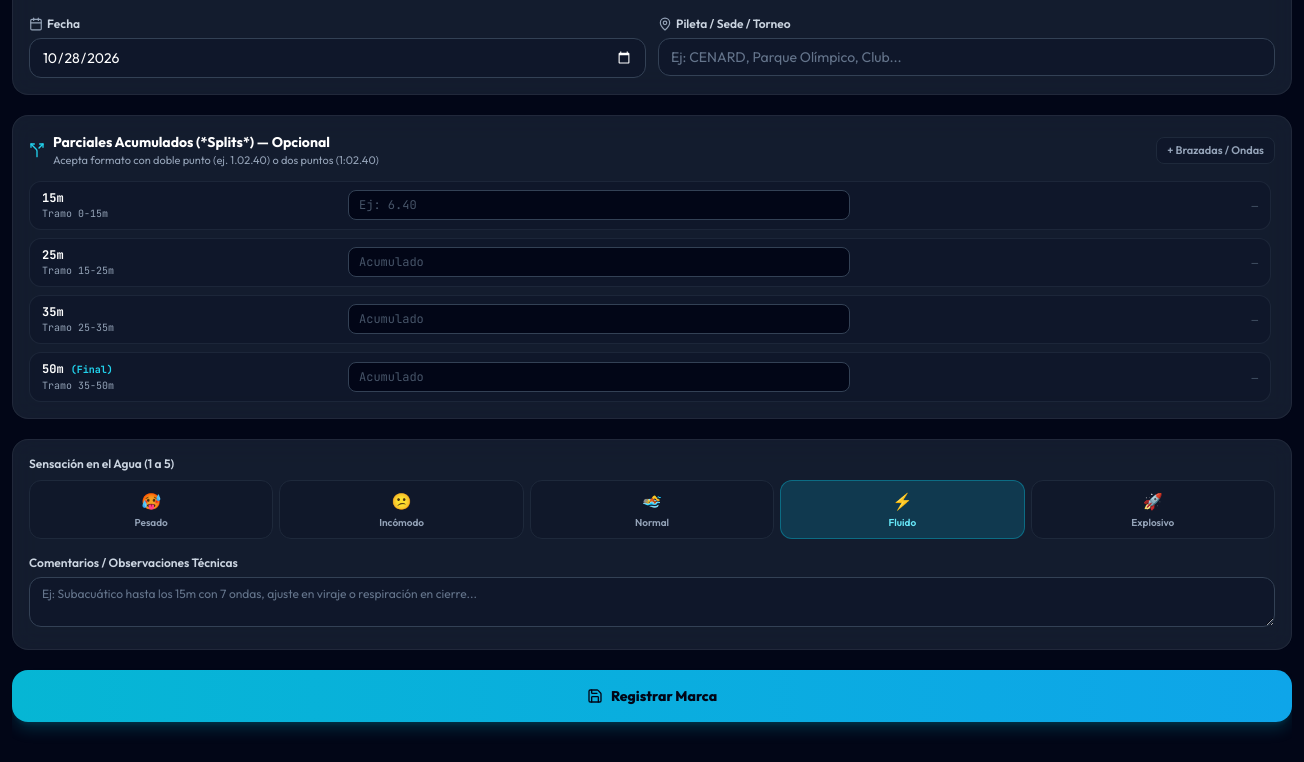
Test case: RegisterMarkView Component & Guardado de Marcas › muestra error de validación cuando el tiempo es vacío o inválido
The width and height of the screenshot is (1304, 762).
(page scrolled)
Click the button "Registrar Marca" at (652, 696), box [12,670,1292,722]
(page scrolled)
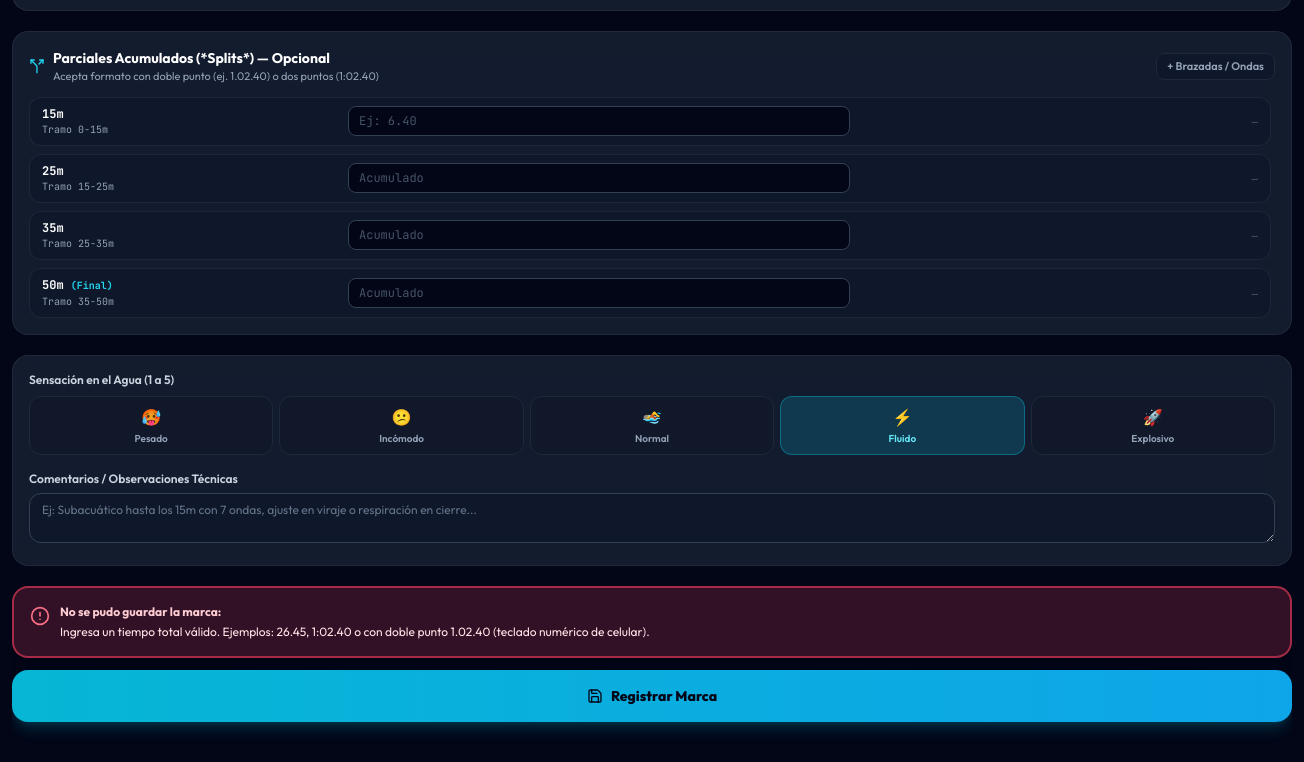
Expected: the text "Ingresa un tiempo total válido" is shown, [60,624,650,639]
